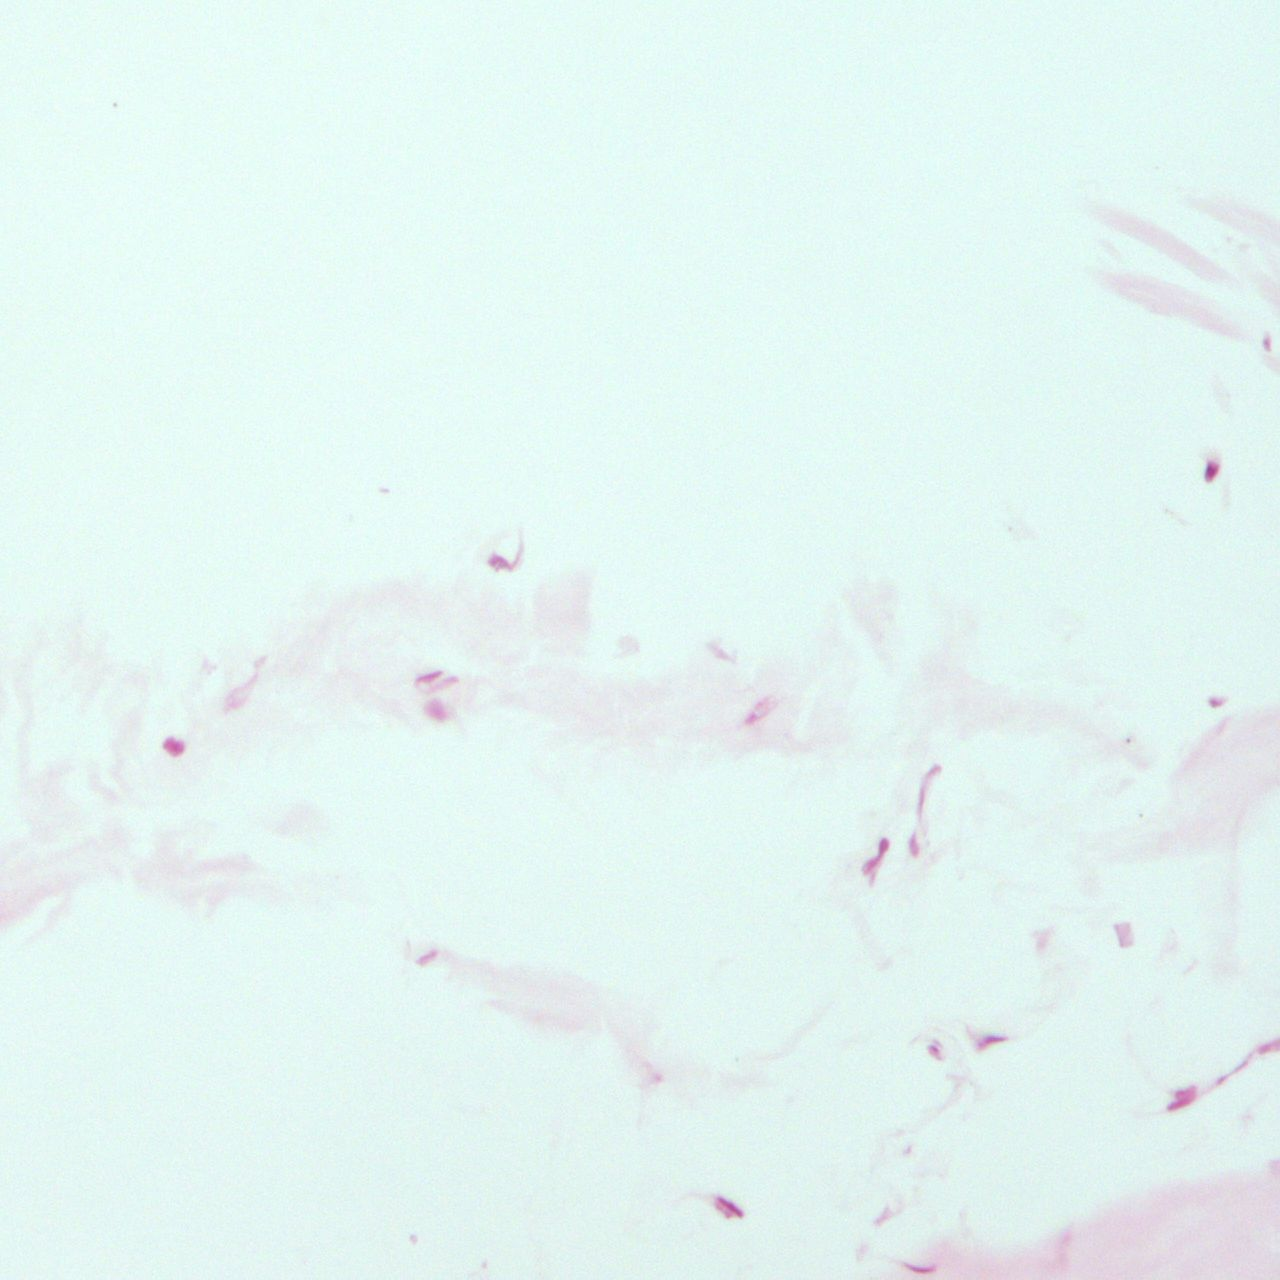dust: (1139, 812, 1144, 819), (1126, 738, 1129, 743)
nucleus-AC: (219, 655, 273, 715), (909, 760, 943, 824), (860, 835, 895, 882), (742, 692, 777, 728), (1210, 1059, 1250, 1089), (714, 1191, 745, 1218), (1164, 1092, 1198, 1114), (973, 1032, 1007, 1051), (1113, 922, 1135, 950), (428, 674, 462, 692), (424, 697, 450, 720), (162, 735, 184, 757), (712, 1201, 736, 1221), (1254, 1038, 1280, 1056), (874, 1204, 896, 1225), (486, 554, 513, 571), (415, 948, 439, 967), (414, 670, 443, 685), (906, 830, 921, 859), (1203, 461, 1220, 484), (903, 1261, 935, 1272), (1173, 1084, 1195, 1098), (1208, 695, 1227, 708), (929, 1043, 942, 1061), (1262, 337, 1272, 352), (379, 486, 390, 494)
